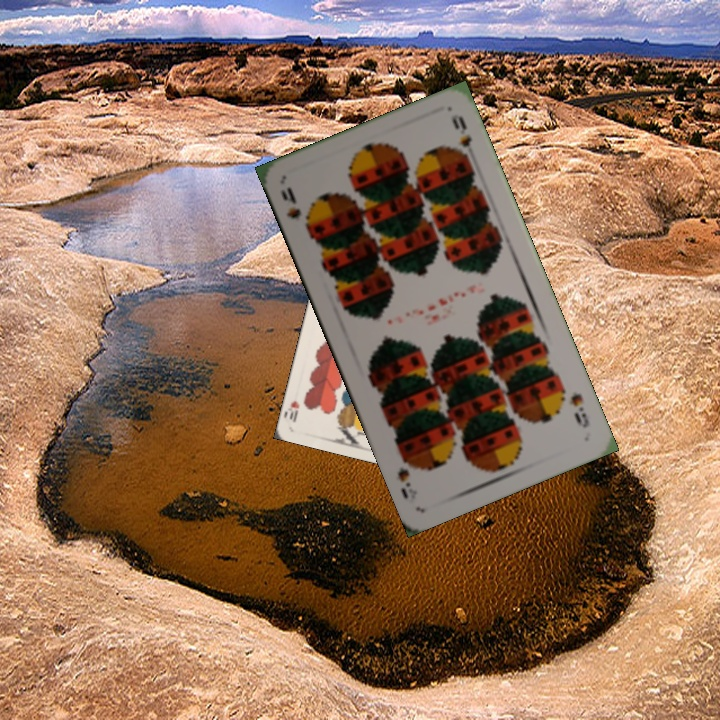S9: (276, 182, 314, 236), (566, 389, 592, 430)
